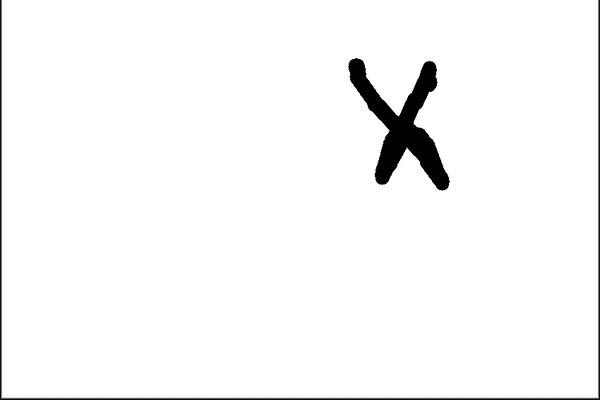X: (321, 39, 487, 226)
